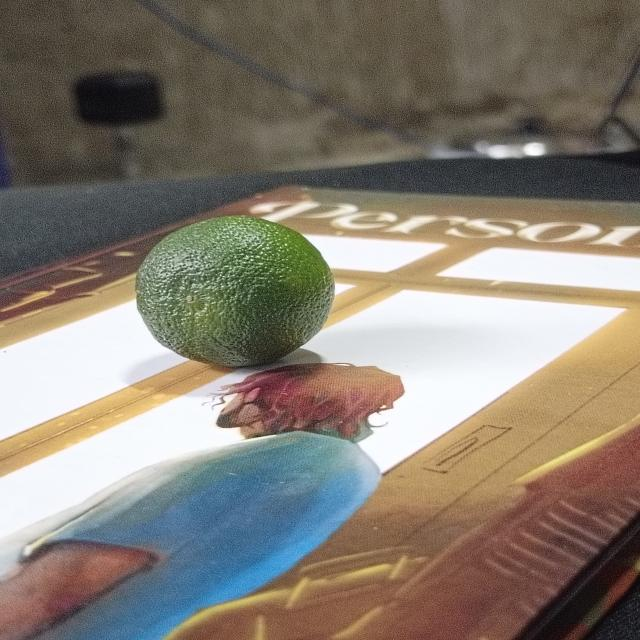heathy: (134, 212, 341, 368)
